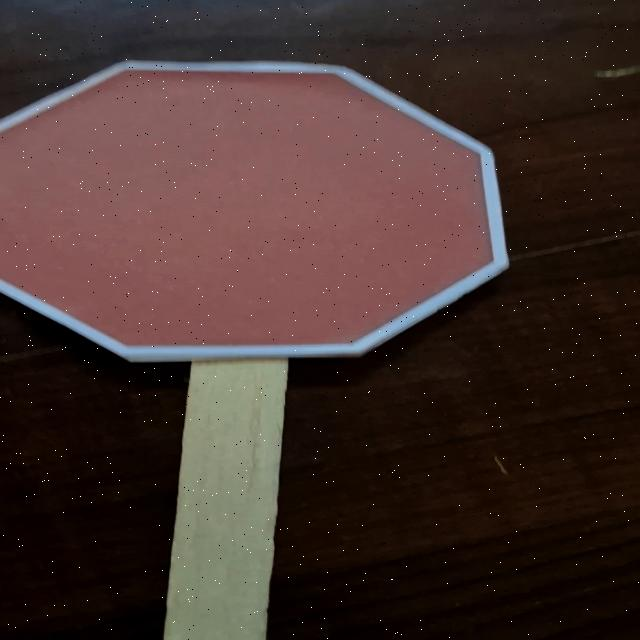Stop: (0, 55, 532, 373)
